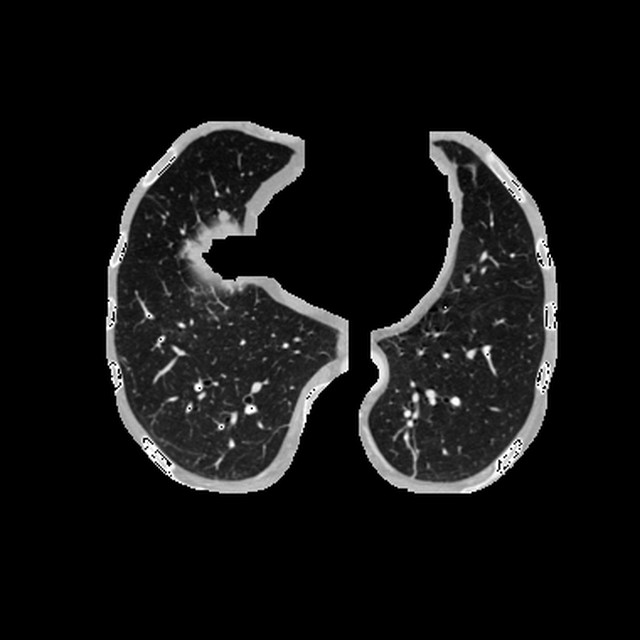PN: (219, 212, 226, 219)
